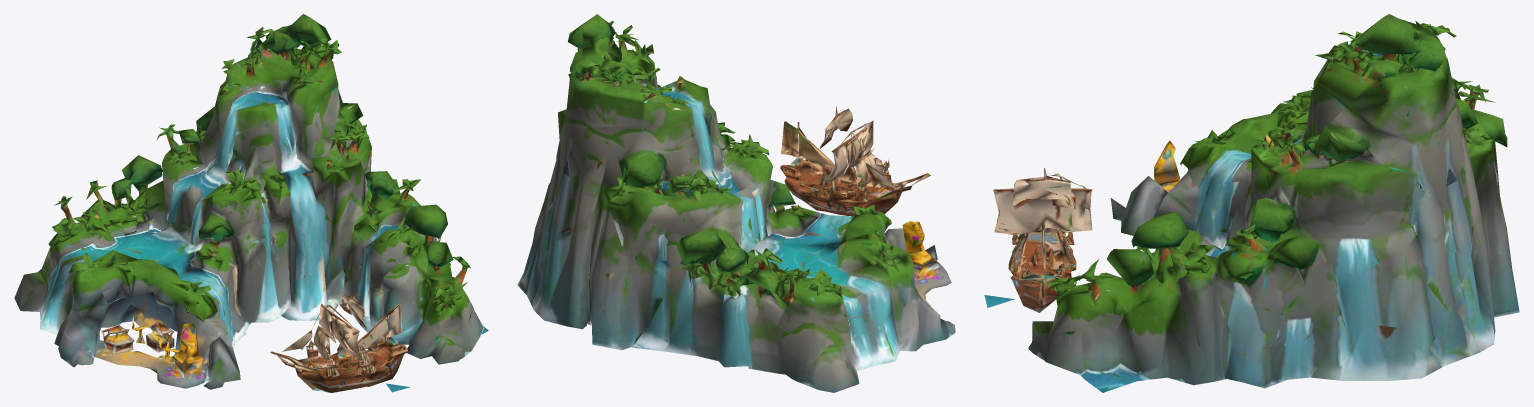
Rendered from m_cocos.glb.
The picture shows the model from 3 angles, left to right: view 1: azimuth 30°, elevation 25°; view 2: azimuth 150°, elevation 25°; view 3: azimuth 270°, elevation 25°; orthographic projection. The views are drawn at different scales.
Bounding box in the file's own units: 0.8919 × 0.6087 × 0.8929.
1 material, 1 textured.
